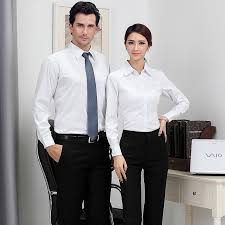F_belt: (47, 130, 108, 146)
F_dress pants: (48, 134, 115, 221)
F_shirt: (24, 42, 110, 147), (102, 62, 190, 151)
S_W_pants: (119, 128, 168, 225)
